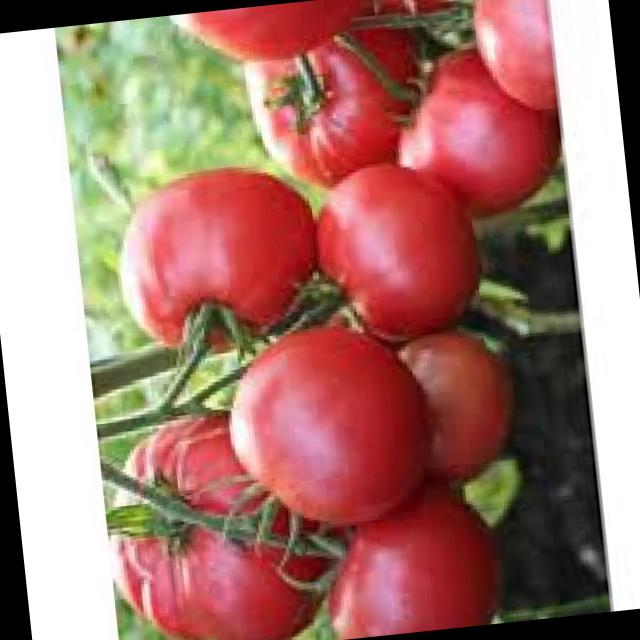Tomato: (93, 400, 320, 640), (220, 317, 440, 553), (105, 149, 324, 362), (297, 150, 483, 346), (242, 15, 422, 197), (368, 46, 548, 224), (305, 491, 502, 640), (396, 327, 526, 488), (148, 0, 372, 75), (443, 0, 568, 126), (310, 0, 484, 55)
